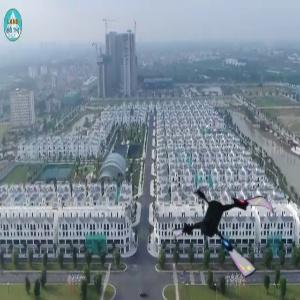drone: (175, 173, 283, 281)
